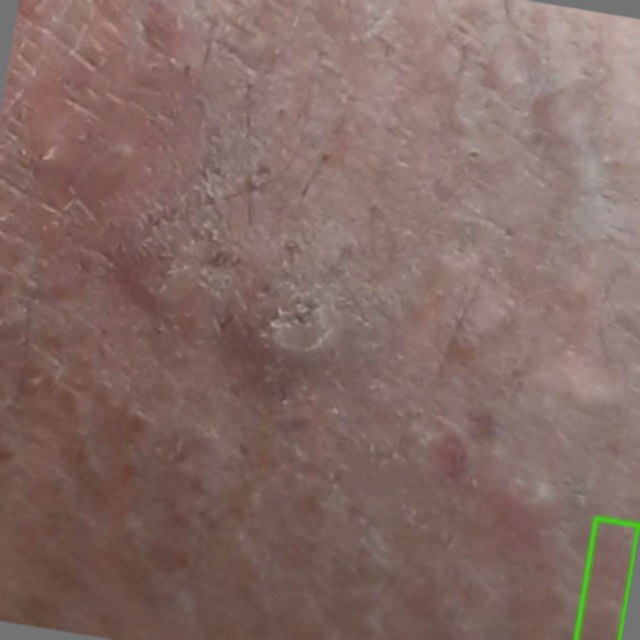Eczema: (576, 518, 639, 639)
